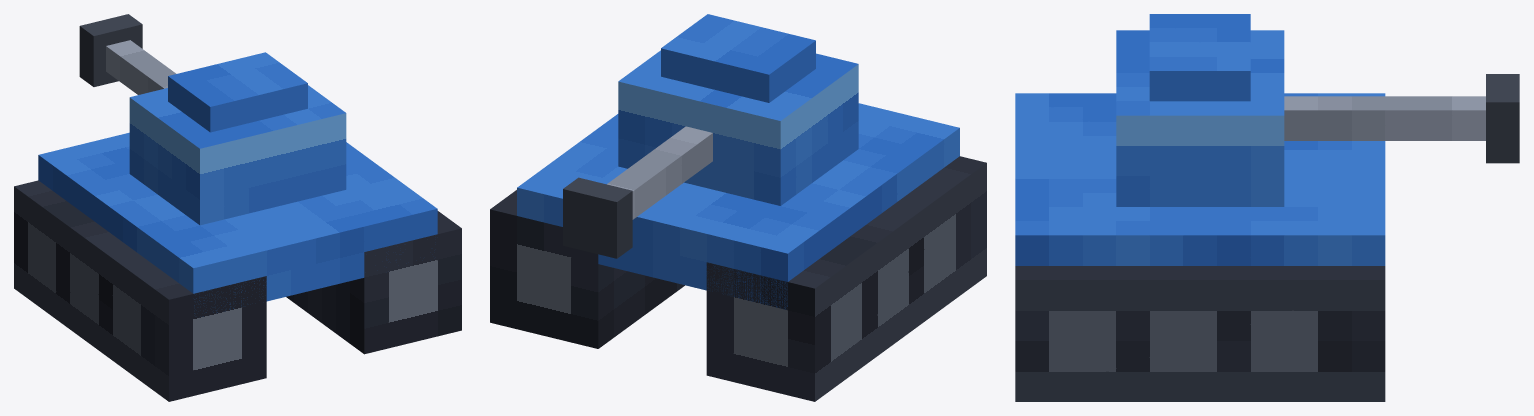
File: ltank_blue.glb
3 renders of one model, left to right at view 1: azimuth 30°, elevation 25°; view 2: azimuth 150°, elevation 25°; view 3: azimuth 270°, elevation 25°, orthographic. The views are drawn at different scales.
Parts seen in each view (by area): view 1: chassis, hull, turret, barrel; view 2: chassis, hull, turret, barrel; view 3: chassis, hull, turret, barrel.
Part boxes in pixels (x1,y1,x2,y2): chassis: (14, 180, 461, 401); hull: (38, 132, 437, 316); turret: (129, 52, 346, 225); barrel: (79, 14, 176, 94); chassis: (490, 156, 986, 401); hull: (517, 103, 959, 309); turret: (618, 14, 858, 205); barrel: (563, 126, 712, 258); chassis: (1015, 266, 1385, 401); hull: (1015, 93, 1385, 265); turret: (1116, 14, 1284, 206); barrel: (1284, 74, 1519, 163).
Size of the model in its own units: 0.75 by 0.5625 by 0.9375.
Materials: 1 (1 with a texture image).
